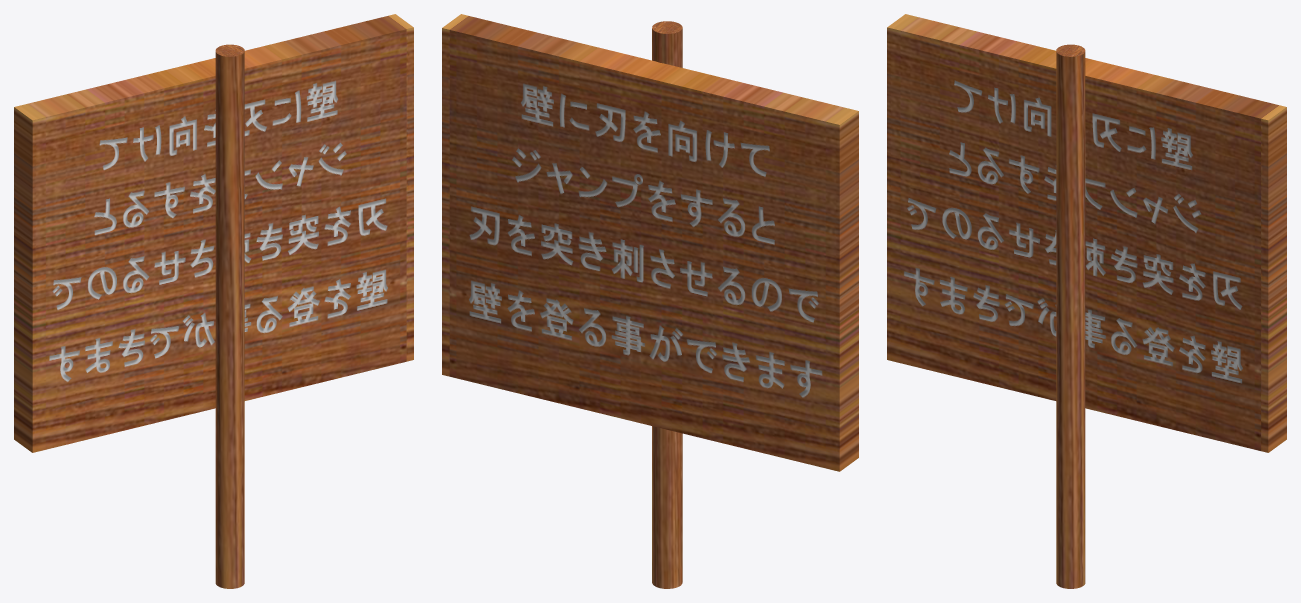
File: Sign2.fbx
3 renders of one model, left to right at view 1: azimuth 30°, elevation 25°; view 2: azimuth 150°, elevation 25°; view 3: azimuth 330°, elevation 25°, orthographic. The views are drawn at different scales.
Parts seen in each view (by area): view 1: pCube1, pCylinder1; view 2: pCube1, pCylinder1; view 3: pCube1, pCylinder1.
Boxes of the visible parts, x1,y1,x2,y2 form: pCube1: (14,14,413,452); pCylinder1: (215,44,244,588); pCube1: (442,14,858,471); pCylinder1: (652,21,682,588); pCube1: (887,14,1286,452); pCylinder1: (1056,44,1085,588).
Bounding box in the file's own units: 1.2 × 1.6 × 0.1781.
Materials: 2 (2 with a texture image).
